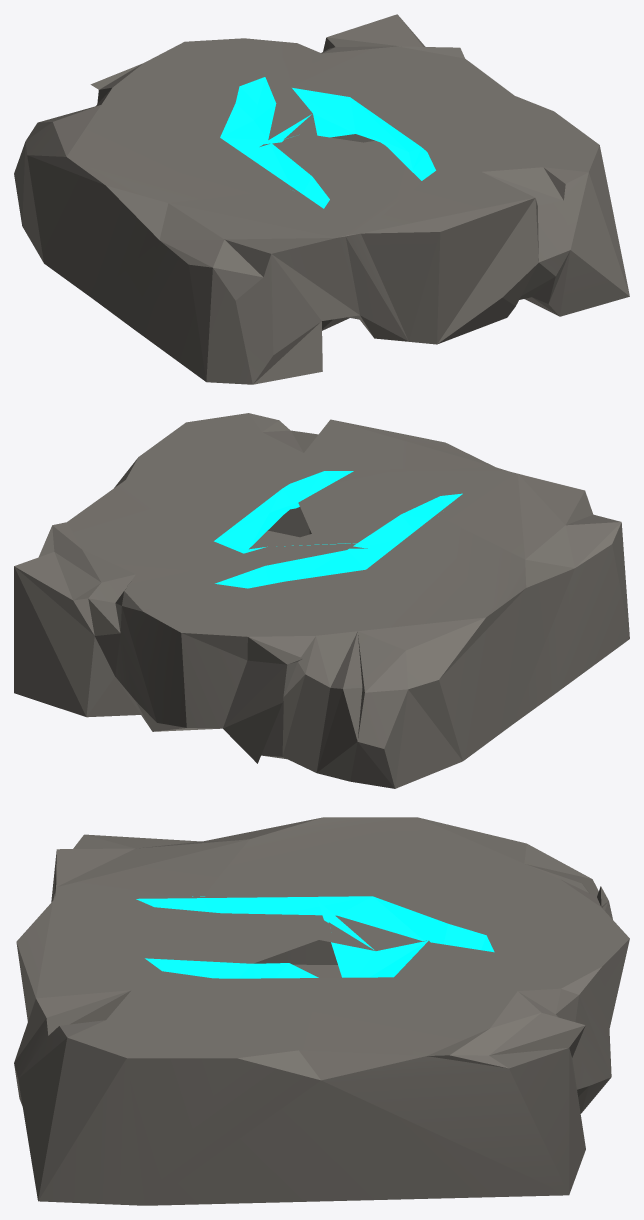
3 renders of one model, top to bottom at view 1: azimuth 30°, elevation 25°; view 2: azimuth 150°, elevation 25°; view 3: azimuth 270°, elevation 25°, orthographic. The views are drawn at different scales.
Visible parts, largest first — view 1: Obj3d66-1649282-36-747; view 2: Obj3d66-1649282-36-747; view 3: Obj3d66-1649282-36-747.
Boxes of the visible parts, bbox=[...] form: Obj3d66-1649282-36-747: bbox=[14, 14, 629, 384]; Obj3d66-1649282-36-747: bbox=[14, 413, 629, 788]; Obj3d66-1649282-36-747: bbox=[14, 817, 629, 1205].
Bounding box in the file's own units: 959 × 295 × 1036.
1 material, 1 textured.
